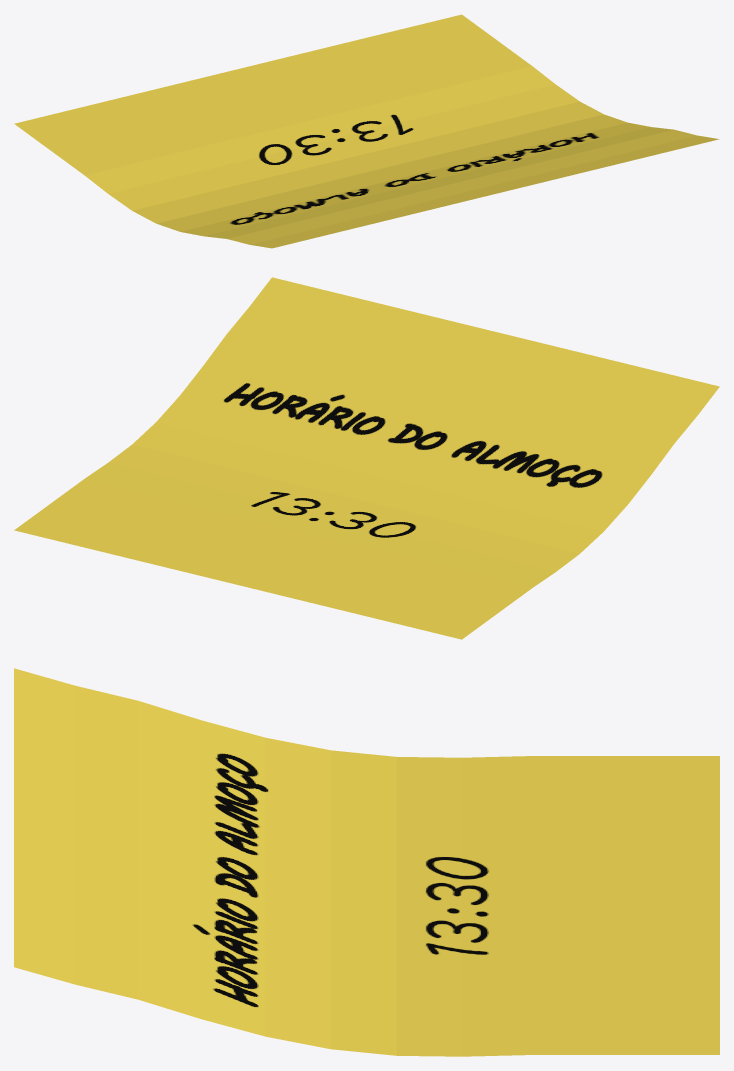
Rendered from Nota.fbx.
The picture shows the model from 3 angles, top to bottom: view 1: azimuth 30°, elevation 25°; view 2: azimuth 150°, elevation 25°; view 3: azimuth 270°, elevation 25°; orthographic projection. The views are drawn at different scales.
Visible parts, largest first — view 1: Plane; view 2: Plane; view 3: Plane.
Part boxes in pixels (box(x1,y1,x2,y2)): Plane: box(14, 14, 719, 248); Plane: box(14, 277, 719, 639); Plane: box(14, 668, 719, 1056).
Size of the model in its own units: 2.42 by 0.3377 by 2.42.
